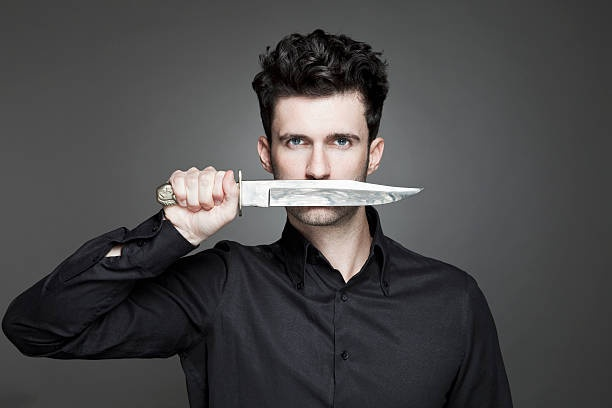knife: (152, 170, 427, 210)
